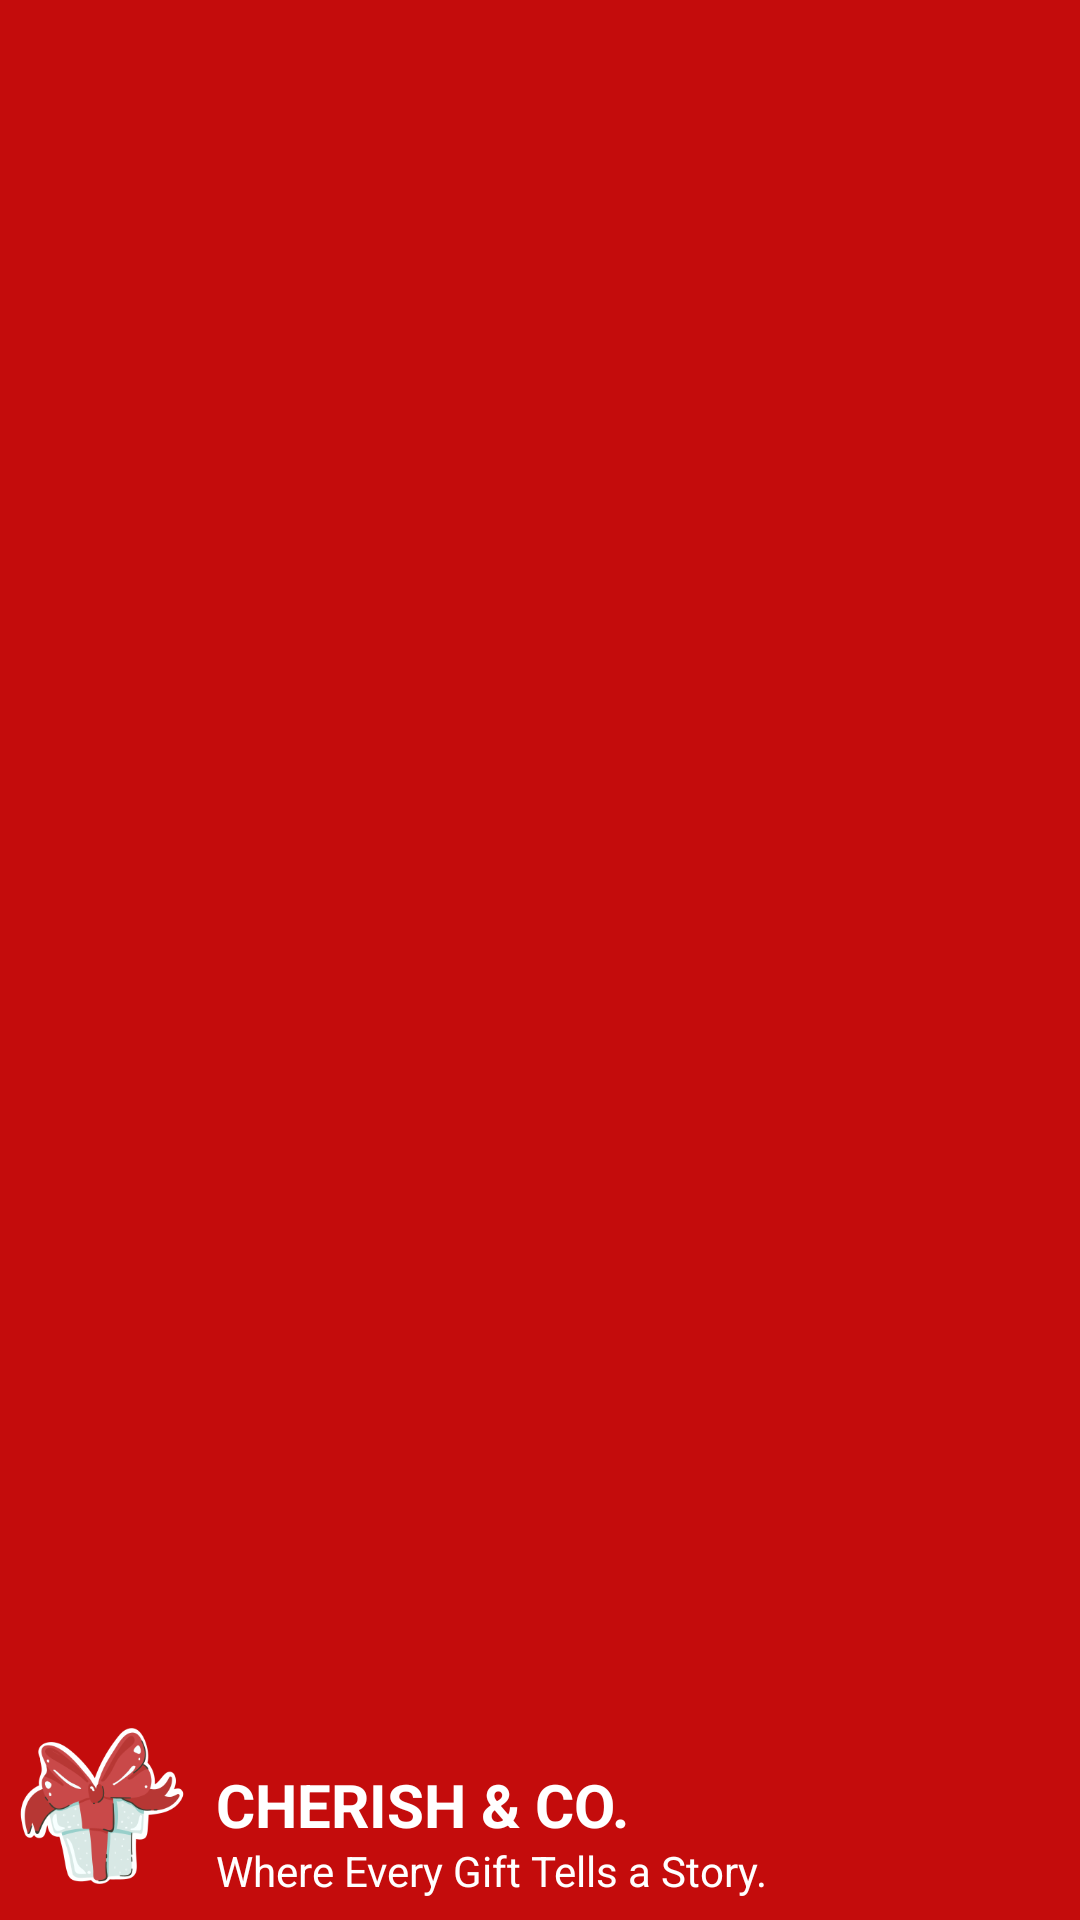

Screen size 1080×1920. Icon name, then its box in pixels as (x1, y1, x2, y2):
gifts: (20, 1728, 184, 1884)
